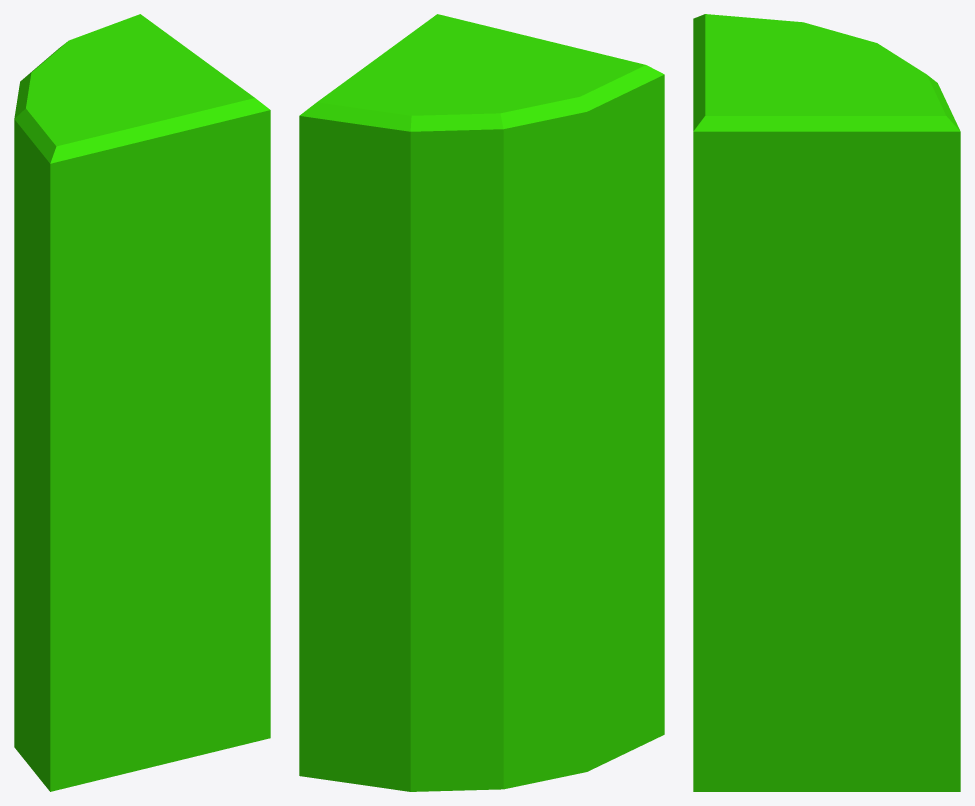
The model's file is round_1x3.fbx.
The picture shows the model from 3 angles, left to right: view 1: azimuth 30°, elevation 25°; view 2: azimuth 150°, elevation 25°; view 3: azimuth 270°, elevation 25°; orthographic projection. The views are drawn at different scales.
Parts seen in each view (by area): view 1: round_1x3; view 2: round_1x3; view 3: round_1x3.
Part boxes in pixels (x1,y1,x2,y2): round_1x3: (14, 14, 270, 791); round_1x3: (299, 14, 664, 791); round_1x3: (693, 14, 960, 791).
Size of the model in its own units: 112 by 310 by 112.
